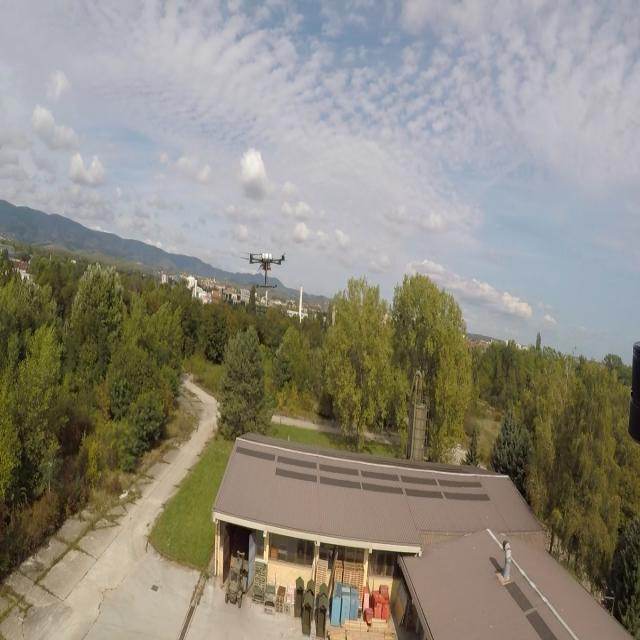UAV: (236, 248, 291, 289)
